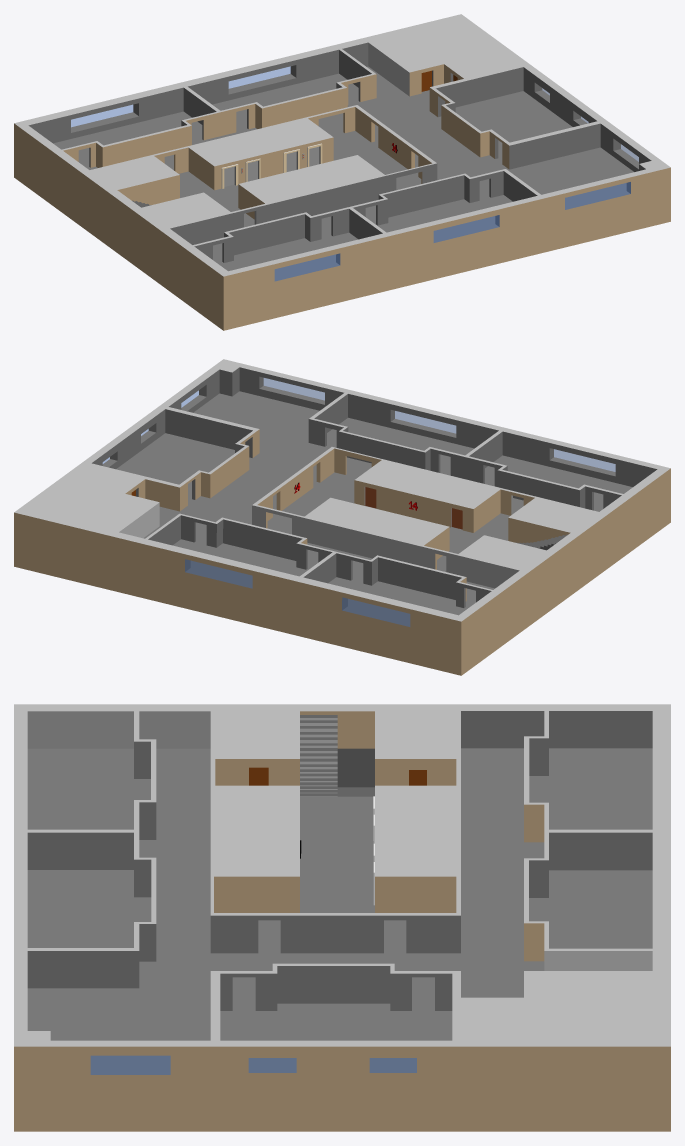
File: 14F-coloredNhan.gltf
3 views of the same model, one above another, from view 1: azimuth 30°, elevation 25°; view 2: azimuth 150°, elevation 25°; view 3: azimuth 270°, elevation 25° (orthographic). The views are drawn at different scales.
Parts seen in each view (by area): view 1: root; view 2: root; view 3: root.
Part boxes in pixels (<box>): root: <box>14,14,670,330</box>; root: <box>14,359,670,675</box>; root: <box>14,704,670,1131</box>.
Bounding box in the file's own units: 45.38 × 5.25 × 36.81.
